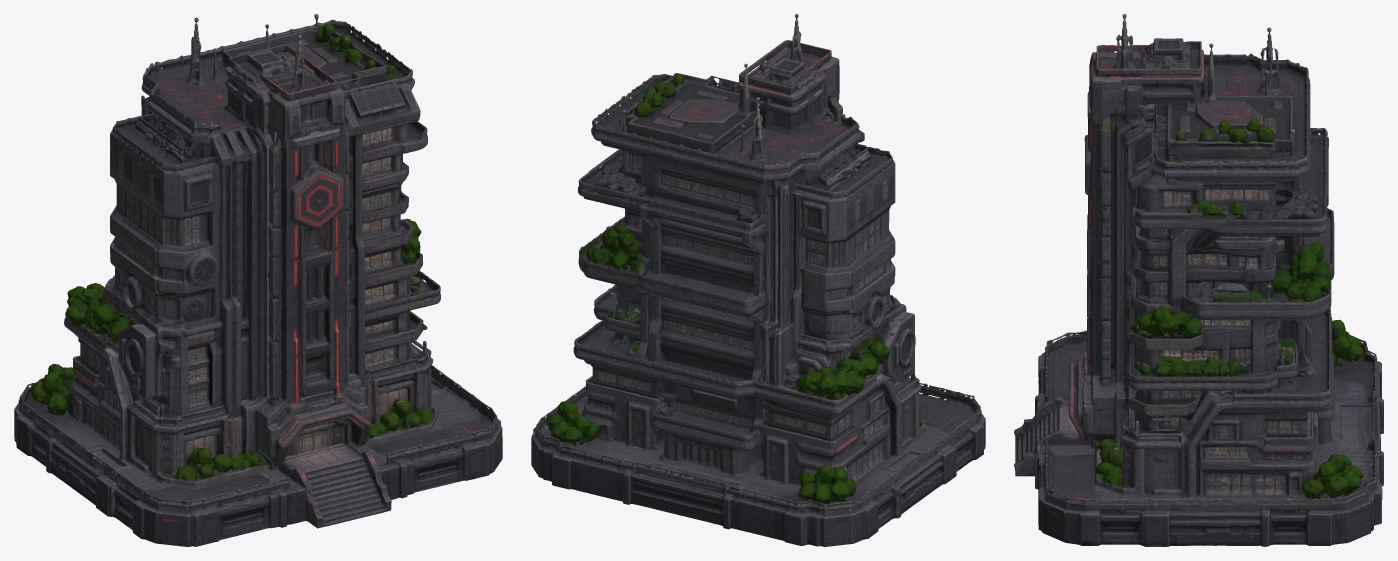
The model's file is neonCitadel.glb.
3 renders of one model, left to right at view 1: azimuth 30°, elevation 25°; view 2: azimuth 150°, elevation 25°; view 3: azimuth 270°, elevation 25°, orthographic. The views are drawn at different scales.
Visible parts, largest first — view 1: Mesh_0; view 2: Mesh_0; view 3: Mesh_0.
Boxes of the visible parts, box(x1,y1,x2,y2) form: Mesh_0: box(14, 14, 502, 546); Mesh_0: box(531, 14, 985, 546); Mesh_0: box(1014, 14, 1383, 546).
Size of the model in its own units: 1.62 by 1.9 by 1.43.
1 material, 1 textured.
